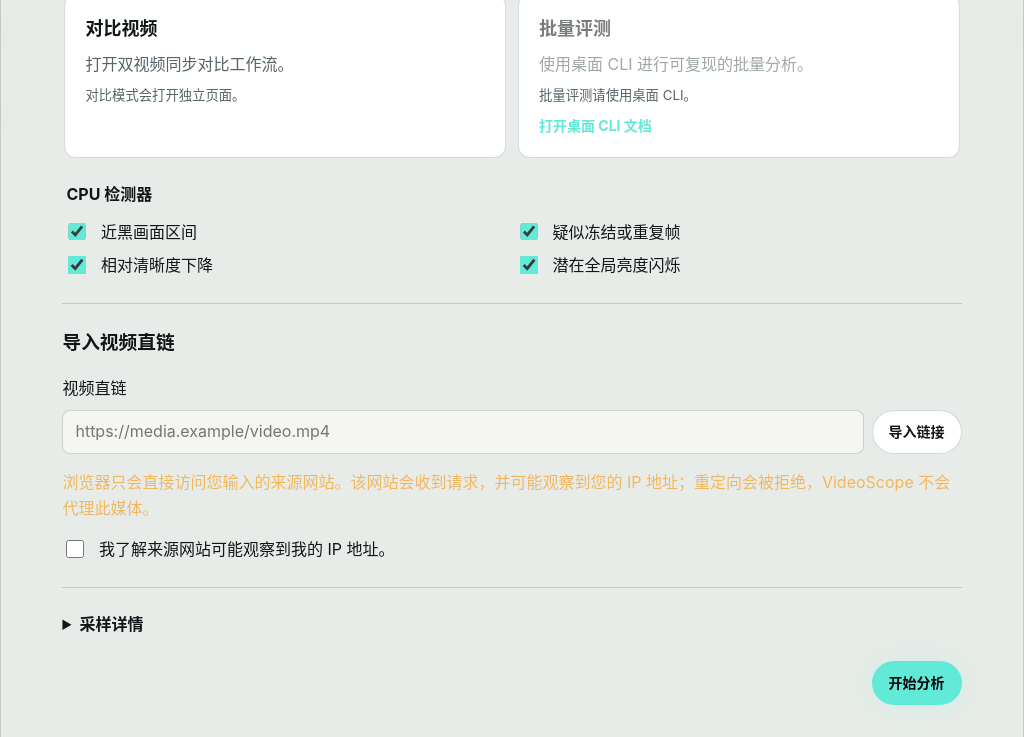
UploadLab › localizes upload validation errors in Simplified Chinese
(page scrolled)
Click the button "开始分析".
click(917, 683)  # box [872,661,962,705]
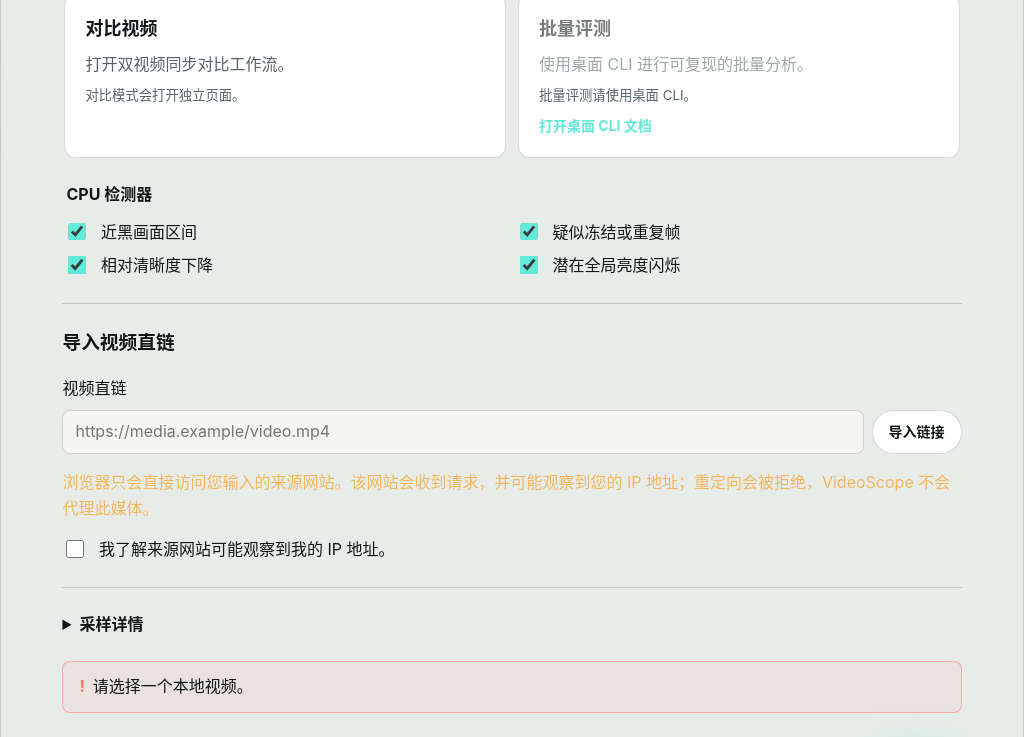
Now the text "请选择一个本地视频。" is shown, box [93,676,253,696]
